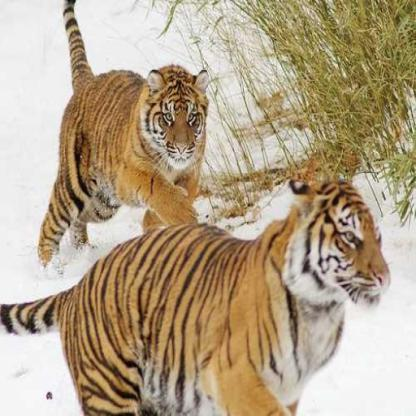Tiger: (26, 166, 400, 416), (7, 13, 226, 260)
